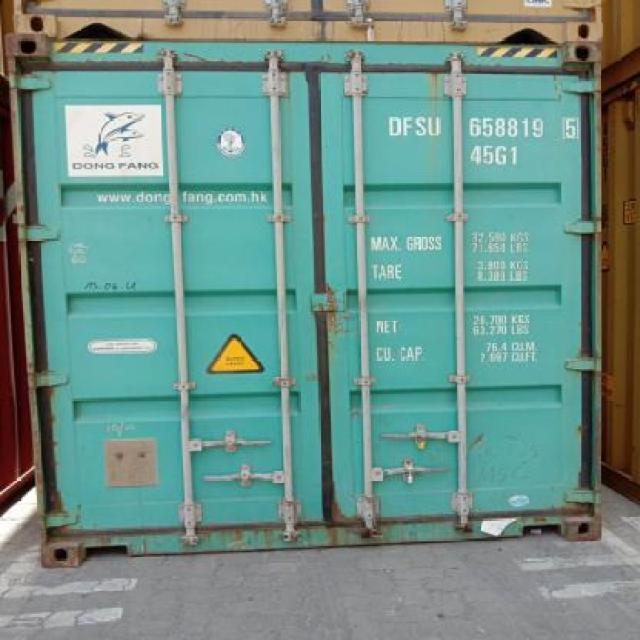ISO: (471, 144, 519, 166)
container_number: (384, 114, 572, 139)
